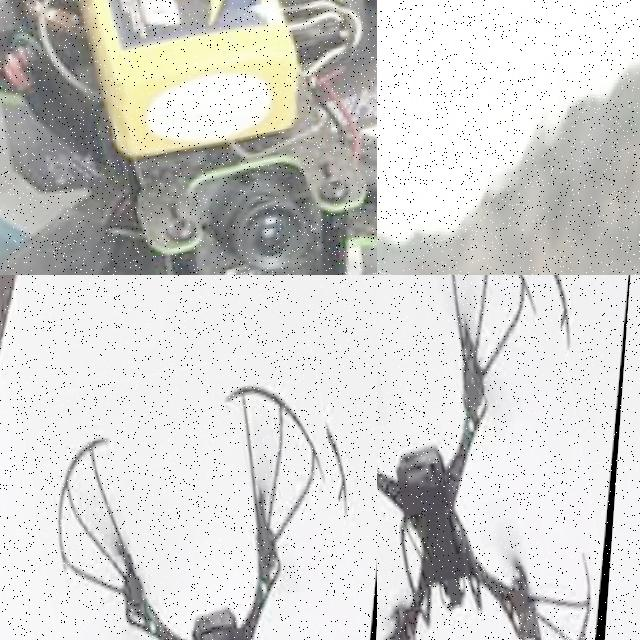drone: (14, 341, 377, 640), (0, 0, 377, 275), (377, 275, 635, 640)
